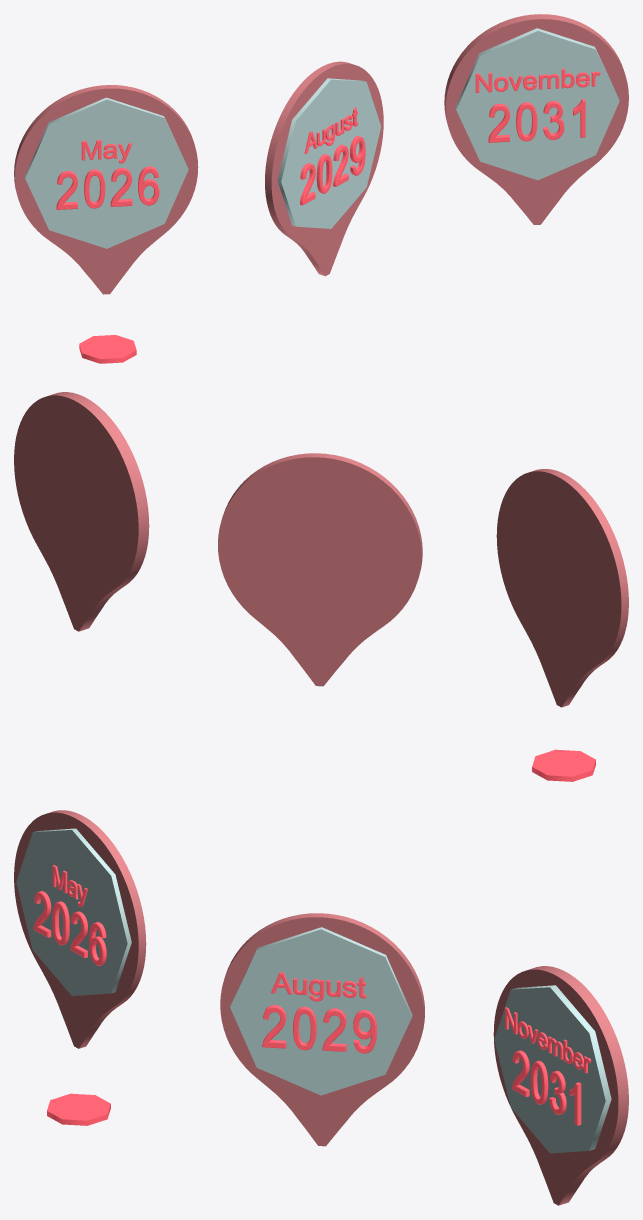
File: cruise-date-bubble-transformed.glb
The picture shows the model from 3 angles, top to bottom: view 1: azimuth 30°, elevation 25°; view 2: azimuth 150°, elevation 25°; view 3: azimuth 330°, elevation 25°; orthographic projection. The views are drawn at different scales.
Visible parts, largest first — view 1: ThirdSceneDate, FirstSceneDate, SecondSceneDate, bottomOctagon; view 2: SecondSceneDate, ThirdSceneDate, FirstSceneDate, bottomOctagon; view 3: SecondSceneDate, ThirdSceneDate, FirstSceneDate, bottomOctagon.
Boxes of the visible parts, x1,y1,x2,y2 form: ThirdSceneDate: (444,14,628,224); FirstSceneDate: (14,85,198,294); SecondSceneDate: (265,61,383,276); bottomOctagon: (79,335,136,363); SecondSceneDate: (218,453,422,686); ThirdSceneDate: (14,392,149,631); FirstSceneDate: (496,469,628,707); bottomOctagon: (532,749,595,781); SecondSceneDate: (220,913,424,1146); ThirdSceneDate: (493,966,628,1205); FirstSceneDate: (14,810,146,1048); bottomOctagon: (47,1093,110,1125).
Bounding box in the file's own units: 39.56 × 17.12 × 4.95.
